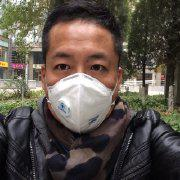OK: (45, 51, 119, 125)
